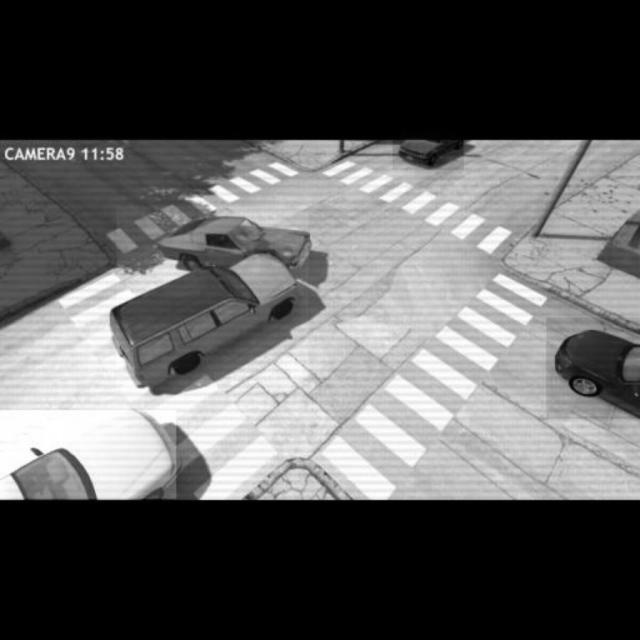accident: (117, 206, 309, 390)
vehicle: (0, 411, 176, 499), (547, 318, 640, 419), (393, 140, 464, 170)
